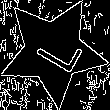L_NW: (24, 25, 82, 77)
